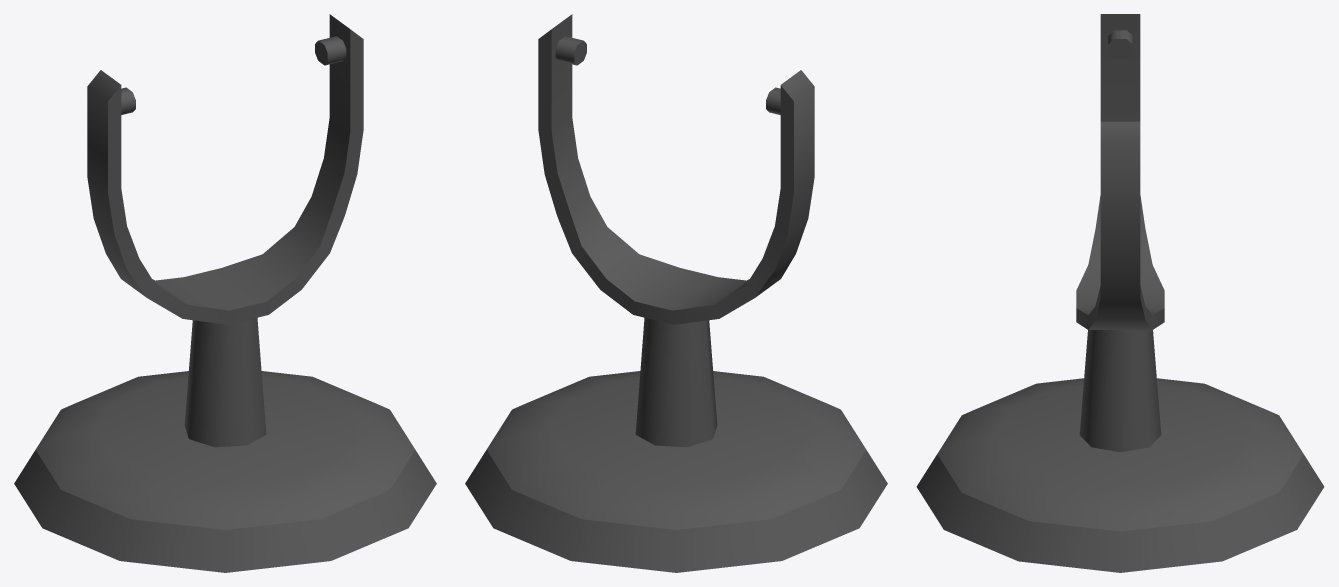
Rendered from Mic_Base.obj.
The picture shows the model from 3 angles, left to right: view 1: azimuth 30°, elevation 25°; view 2: azimuth 150°, elevation 25°; view 3: azimuth 270°, elevation 25°; orthographic projection. The views are drawn at different scales.
Parts seen in each view (by area): view 1: Mic_Base; view 2: Mic_Base; view 3: Mic_Base.
Part boxes in pixels (x1,y1,x2,y2): Mic_Base: (14,14,436,572); Mic_Base: (465,14,887,572); Mic_Base: (916,14,1324,572).
Size of the model in its own units: 0.118 by 0.1337 by 0.118.
